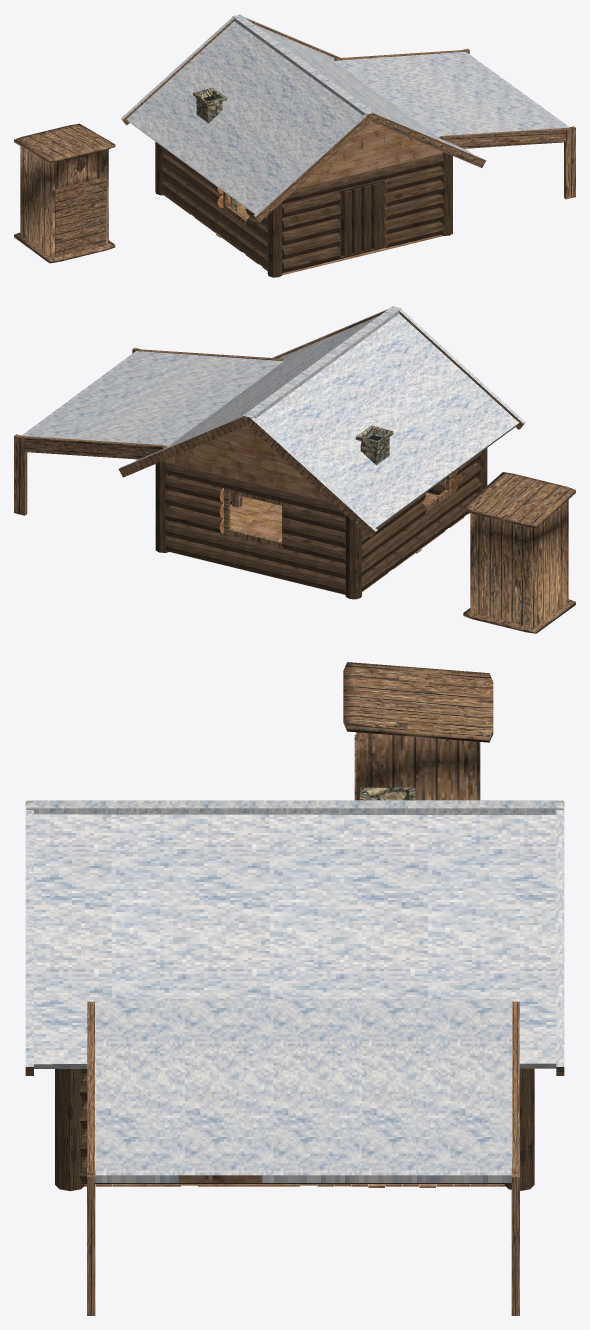
The model's file is cabinbaba.fbx.
3 views of the same model, one above another, from view 1: azimuth 30°, elevation 25°; view 2: azimuth 150°, elevation 25°; view 3: azimuth 270°, elevation 25° (orthographic). The views are drawn at different scales.
Visible parts, largest first — view 1: roof, logs, odunluk, Cube, frontwoods, kapı, logs.016, skeleton, somine, floor; view 2: roof, logs, odunluk, Cube, frontwoods.001, floor, skeleton, window.001, somine; view 3: roof, odunluk, Cube, skeleton, logs, floor.
Part boxes in pixels (left/top/right/bottom): roof: left=121, top=14, right=486, bottom=222; logs: left=155, top=142, right=452, bottom=277; odunluk: left=333, top=48, right=575, bottom=199; Cube: left=14, top=123, right=115, bottom=263; frontwoods: left=297, top=121, right=443, bottom=188; kapı: left=55, top=177, right=106, bottom=257; logs.016: left=337, top=179, right=384, bottom=258; skeleton: left=228, top=14, right=442, bottom=208; somine: left=193, top=87, right=236, bottom=211; floor: left=164, top=195, right=442, bottom=275; roof: left=118, top=306, right=525, bottom=537; logs: left=155, top=448, right=487, bottom=599; odunluk: left=14, top=347, right=283, bottom=515; Cube: left=463, top=472, right=575, bottom=633; frontwoods.001: left=163, top=425, right=330, bottom=501; floor: left=170, top=492, right=469, bottom=594; skeleton: left=232, top=306, right=401, bottom=507; window.001: left=224, top=488, right=285, bottom=547; somine: left=355, top=425, right=393, bottom=465; roof: left=25, top=801, right=564, bottom=1075; odunluk: left=87, top=998, right=519, bottom=1315; Cube: left=343, top=662, right=493, bottom=800; skeleton: left=26, top=800, right=563, bottom=814; logs: left=55, top=1068, right=534, bottom=1191; floor: left=84, top=1184, right=505, bottom=1187.
Size of the model in its own units: 6974 by 2172 by 3525.
7 materials, 6 textured.
